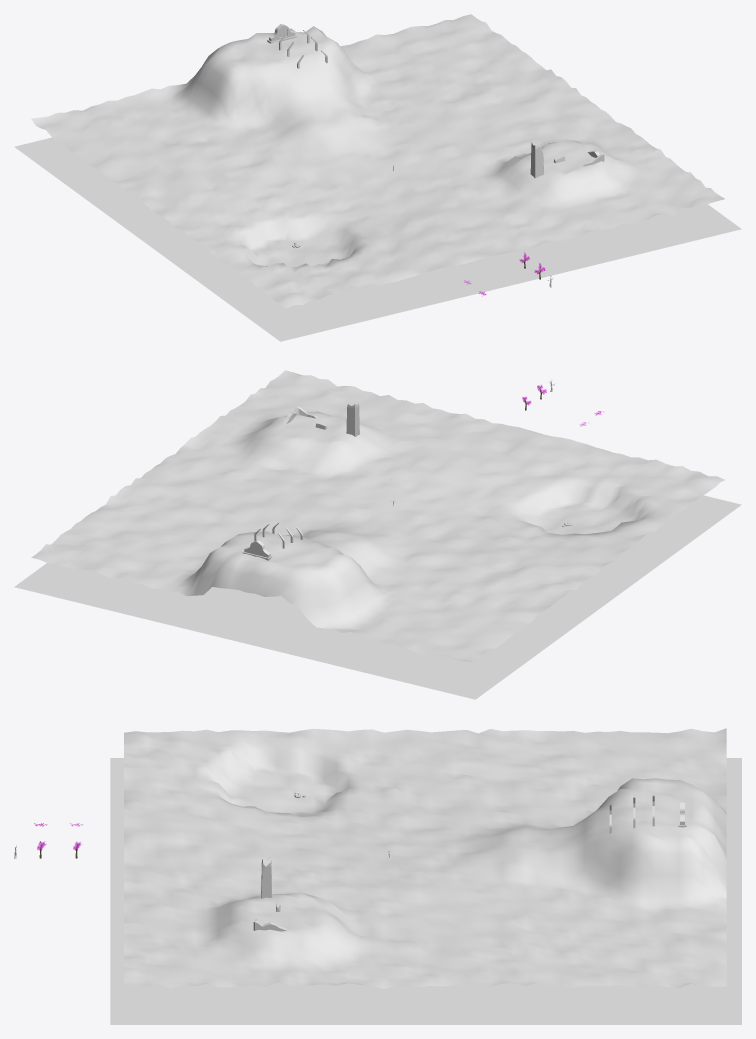
File: Dream.glb
3 renders of one model, top to bottom at view 1: azimuth 30°, elevation 25°; view 2: azimuth 150°, elevation 25°; view 3: azimuth 270°, elevation 25°, orthographic. The views are drawn at different scales.
Parts seen in each view (by area): view 1: Terrain.002, ground; view 2: Terrain.002, ground; view 3: Terrain.002, ground.
Part boxes in pixels (<box>): Terrain.002: <box>31,14,724,308</box>; ground: <box>14,137,741,341</box>; Terrain.002: <box>31,370,724,661</box>; ground: <box>14,495,741,699</box>; Terrain.002: <box>124,728,726,988</box>; ground: <box>110,758,741,1024</box>.
Size of what is drawn, in the model's own units: 147 by 25.14 by 170.
9 materials, 6 textured.
